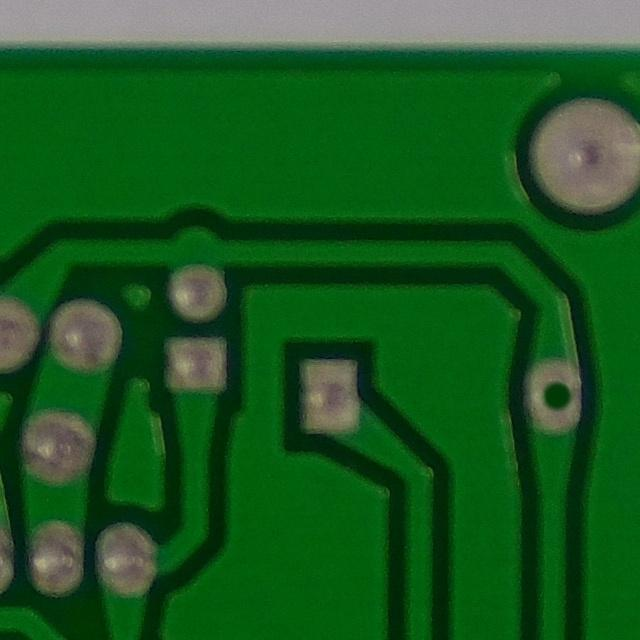missing_hole: (520, 351, 596, 438)
